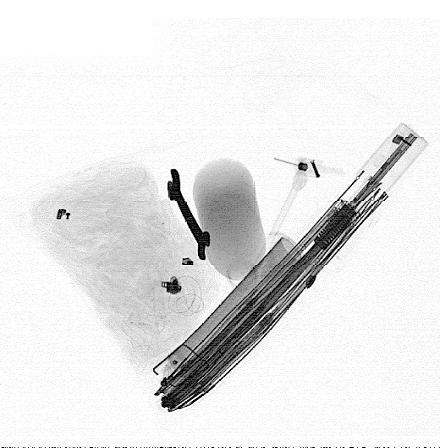Wrench: (167, 167, 211, 263)
